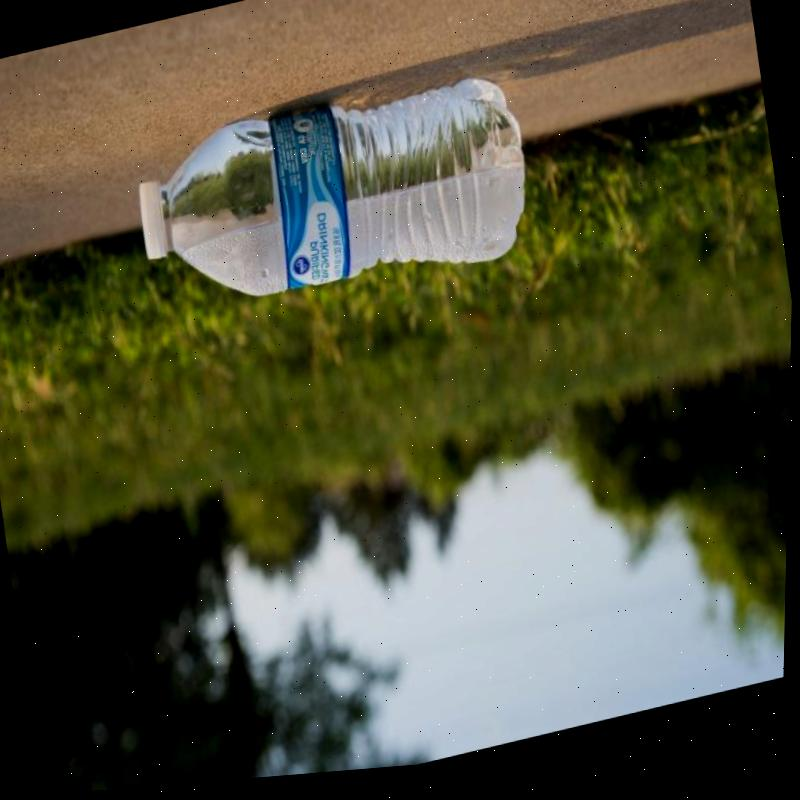botella: (126, 55, 540, 347)
